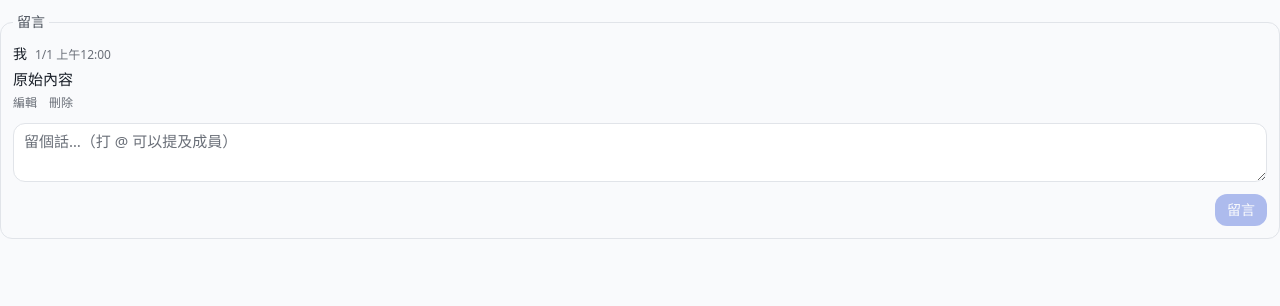
it: TaskComments.vue › 編輯自己的留言：點編輯出現輸入框，儲存後呼叫 comments.update
Click the button "編輯" at point(25, 102), box [13,94,37,110]
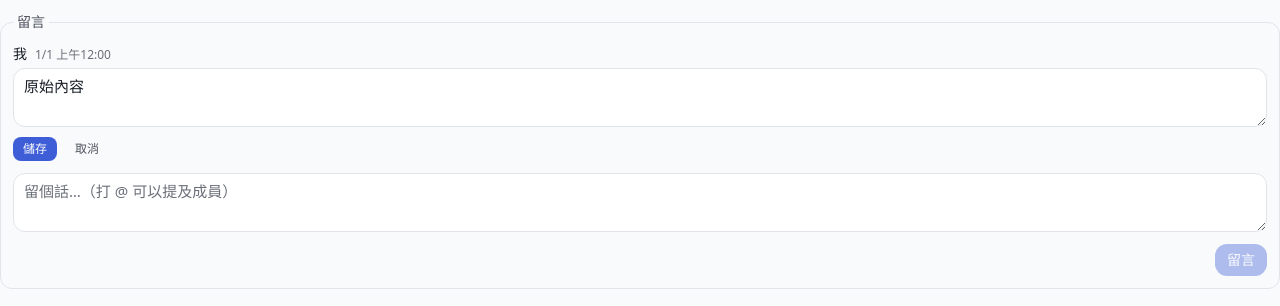
Result: the text box with id "edit-comment-c1" holds "原始內容"
Replace the text in the text box with id "edit-comment-c1" with "改過的內容" at point(640, 98), box [13,68,1267,127]
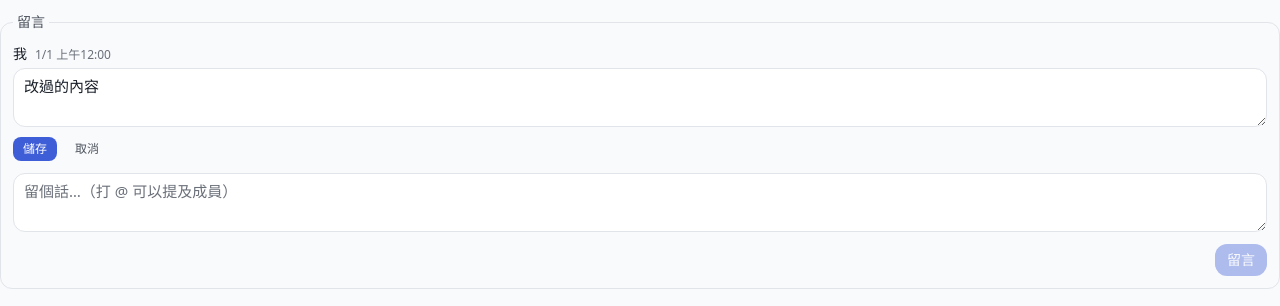
Click the button "儲存" at point(35, 149), box [13,137,57,161]
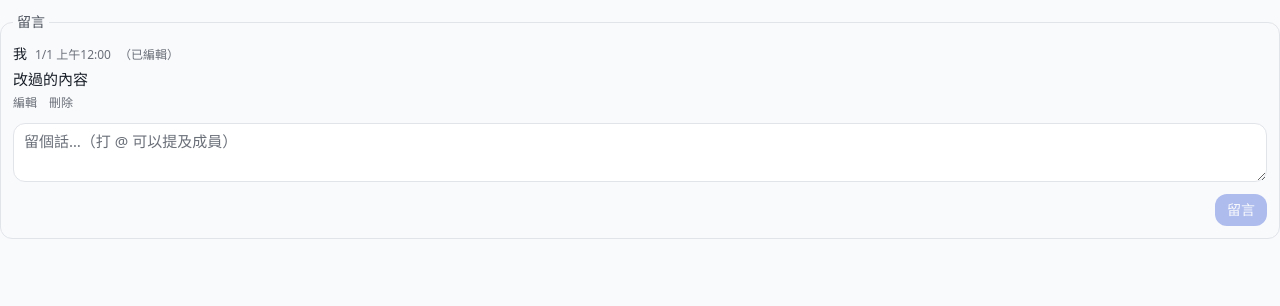
Result: the text "改過的內容" is shown at [13,69,88,89]
